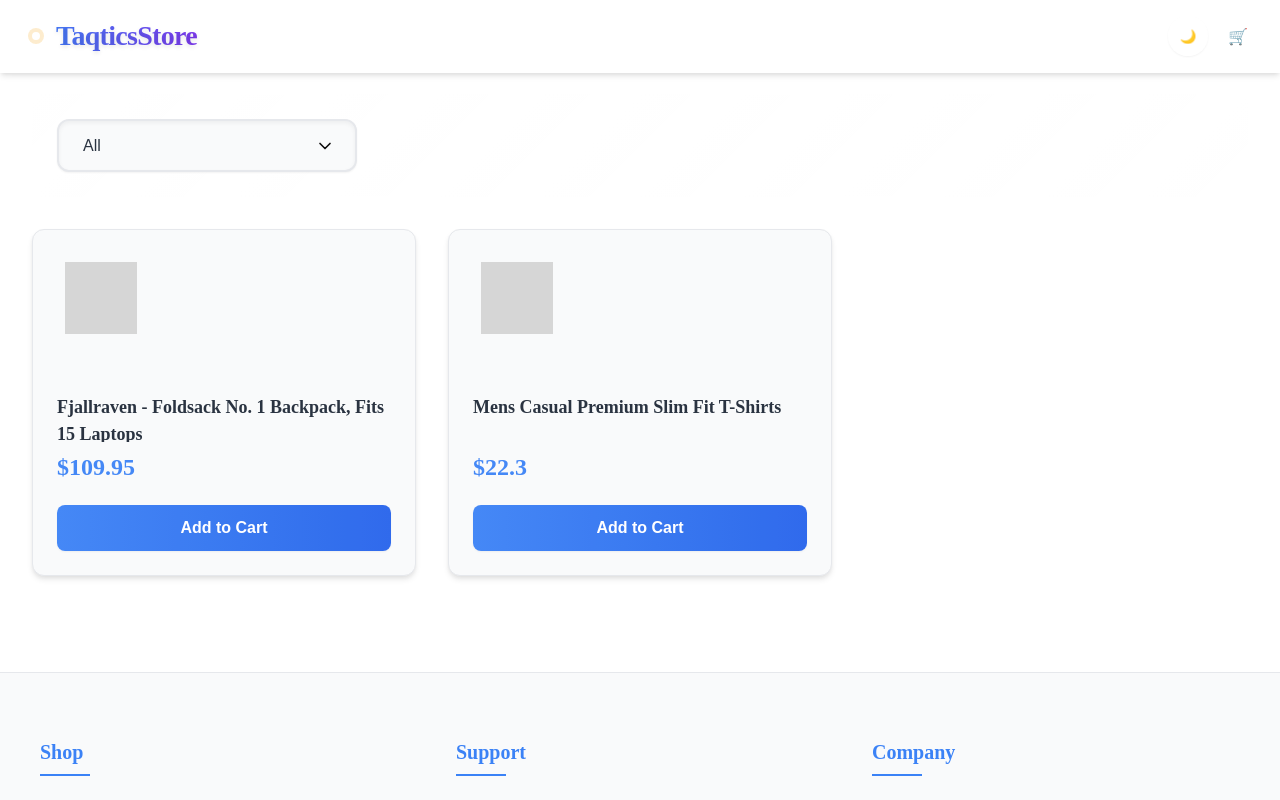
App Component › can filter products by category
# Change the select value
Select "Men" in the dropdown at (207, 146), box [57,119,357,172]
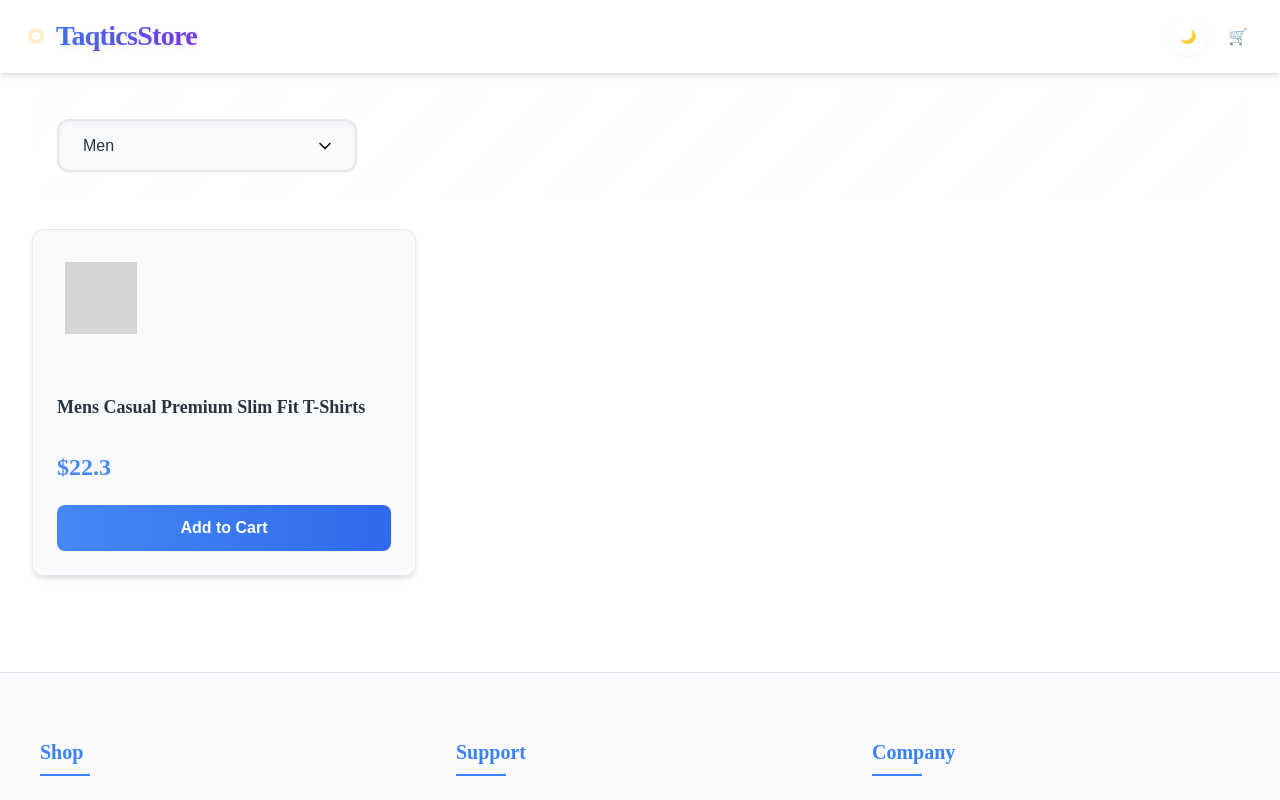
Expected: the heading "Mens Casual Premium Slim Fit T-Shirts" is shown, [57,397,365,417]
Result: the heading "Fjallraven - Foldsack No. 1 Backpack, Fits 15 Laptops" is gone
